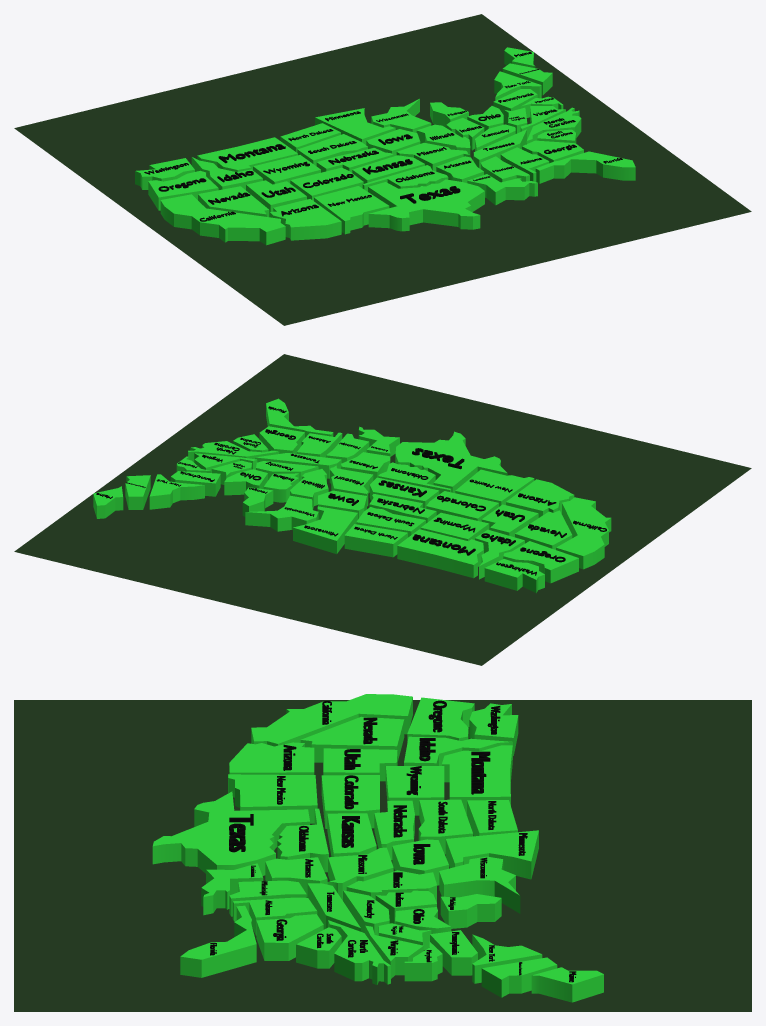
File: map.fbx
3 renders of one model, top to bottom at view 1: azimuth 30°, elevation 25°; view 2: azimuth 150°, elevation 25°; view 3: azimuth 270°, elevation 25°, orthographic. The views are drawn at different scales.
Parts seen in each view (by area): view 1: Plane, Texas, California, Arizona, Florida, New Mexico, Montana, Oregone, Nevada, Minnesota, Colorado, Louisiana (+27 smaller); view 2: Plane, Texas, Montana, California, Minnesota, Oregone, New Mexico, Wisconsin, North Dakota, Arizona, Washington, Colorado (+28 smaller); view 3: Plane, Texas, California, Montana, New Mexico, Minnesota, Nevada, Wisconsin, Florida, Arizona, Colorado, North Carolina (+31 smaller).
Boxes of the visible parts, x1,y1,x2,y2 form: Plane: [14, 14, 751, 325]; Texas: [368, 179, 484, 231]; California: [160, 194, 285, 245]; Arizona: [270, 199, 341, 240]; Florida: [535, 151, 635, 183]; New Mexico: [314, 186, 389, 234]; Montana: [197, 137, 297, 171]; Oregone: [148, 170, 218, 210]; Nevada: [198, 186, 269, 217]; Minnesota: [315, 108, 395, 144]; Colorado: [290, 167, 363, 200]; Louisiana: [467, 174, 537, 205]; Plane: [14, 354, 751, 665]; Texas: [395, 431, 507, 492]; Montana: [397, 529, 483, 578]; California: [556, 497, 611, 569]; Minnesota: [293, 506, 357, 554]; Oregone: [503, 541, 578, 583]; New Mexico: [455, 469, 534, 506]; Wisconsin: [245, 495, 318, 531]; North Dakota: [344, 524, 407, 557]; Arizona: [506, 479, 574, 517]; Washington: [484, 559, 544, 593]; Colorado: [426, 491, 498, 521]; Plane: [14, 700, 751, 1011]; Texas: [152, 791, 309, 875]; California: [251, 694, 412, 746]; Montana: [442, 745, 512, 814]; New Mexico: [228, 774, 317, 823]; Minnesota: [445, 830, 538, 879]; Nevada: [300, 716, 404, 762]; Wisconsin: [439, 856, 520, 913]; Florida: [180, 905, 256, 977]; Arizona: [229, 742, 314, 774]; Colorado: [321, 775, 379, 828]; North Carolina: [328, 920, 390, 984].
Size of the model in its own units: 184 by 5.94 by 184.
